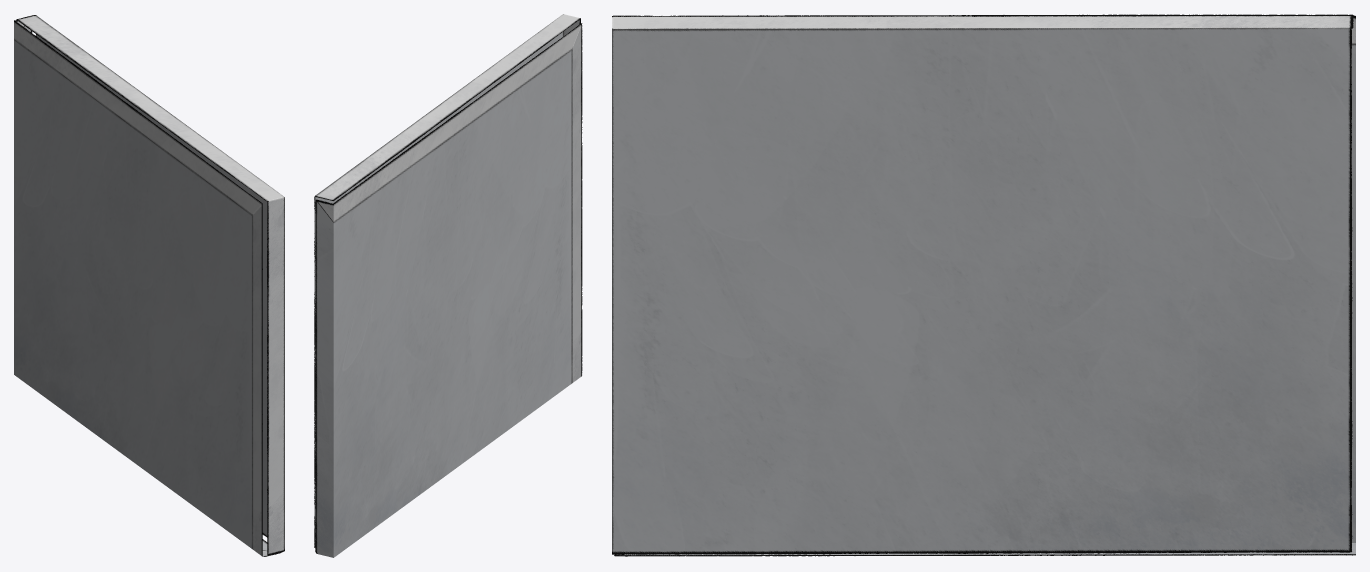
3 views of the same model, side by side, from view 1: azimuth 30°, elevation 25°; view 2: azimuth 150°, elevation 25°; view 3: azimuth 270°, elevation 25° (orthographic). The views are drawn at different scales.
Parts seen in each view (by area): view 1: 立方体; view 2: 立方体; view 3: 立方体.
Boxes of the visible parts, x1,y1,x2,y2 form: 立方体: [14, 15, 284, 556]; 立方体: [314, 14, 582, 557]; 立方体: [612, 14, 1355, 556].
Size of the model in its own units: 132 by 2179 by 2778.
Materials: 1 (1 with a texture image).
